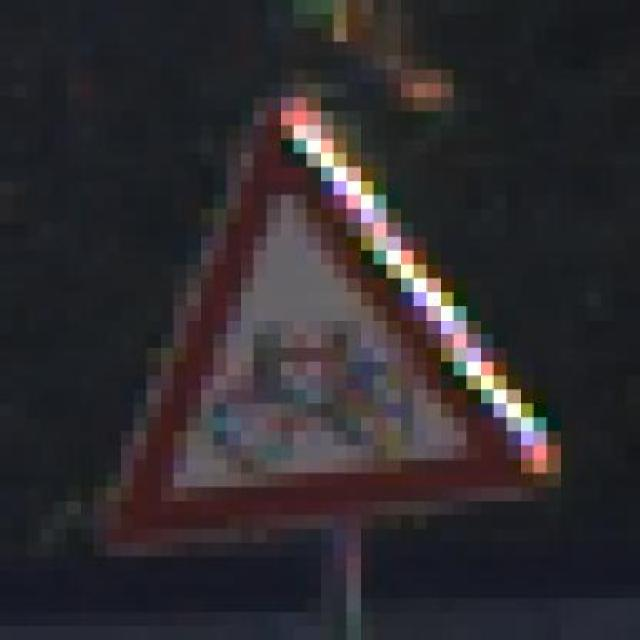CYCLE ROUTE AHEAD WARNING: (93, 69, 561, 571)
